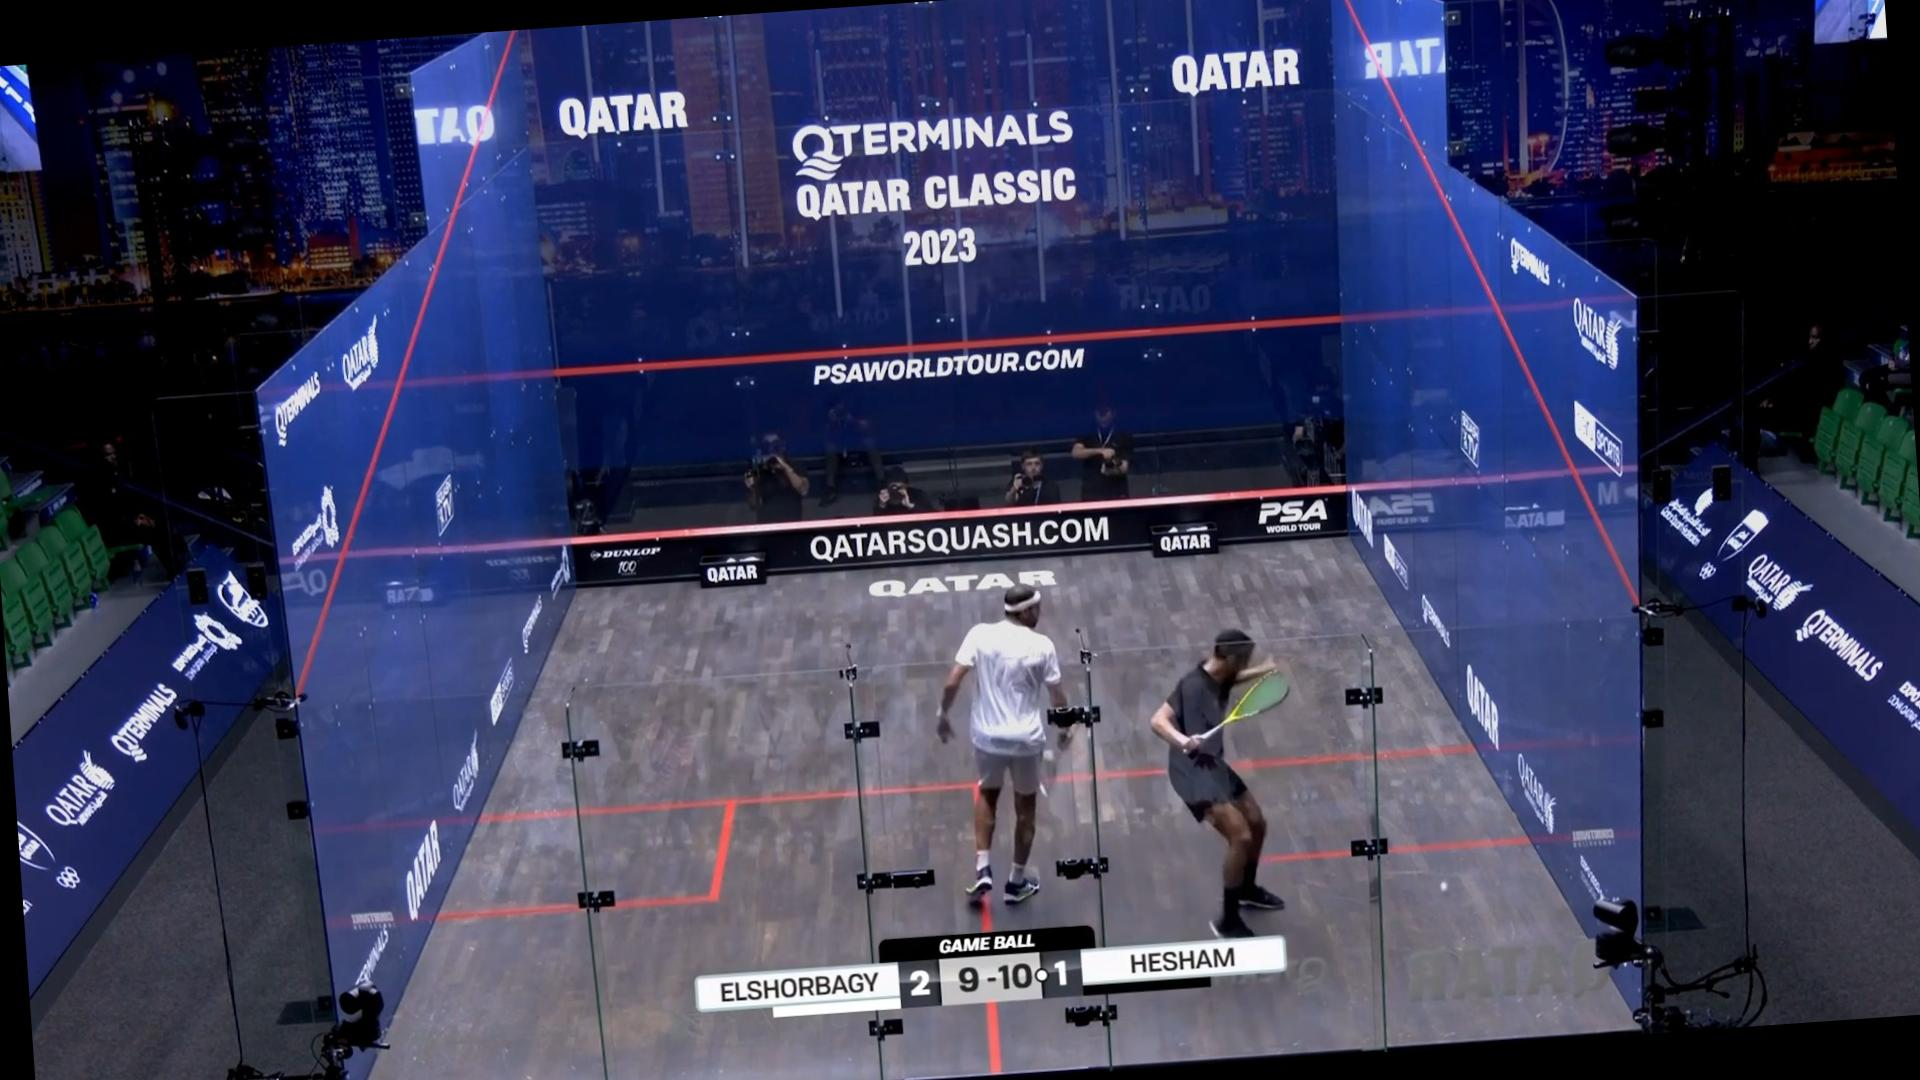Squash-Ball: (1431, 861, 1461, 914)
